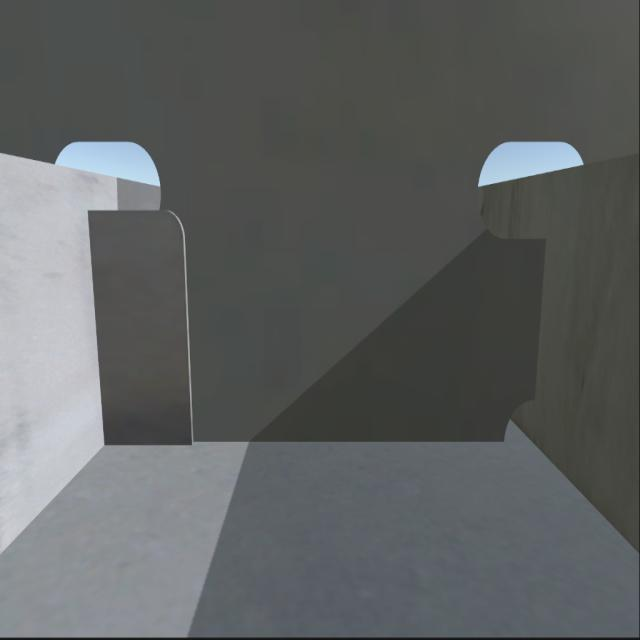fillet_hole: (504, 394, 536, 440)
fillet_yong_jeop_jang: (100, 434, 506, 452)
longi_yong_jeop_jang: (89, 211, 101, 443), (533, 248, 547, 388)
plate_CP05: (91, 210, 185, 450)
